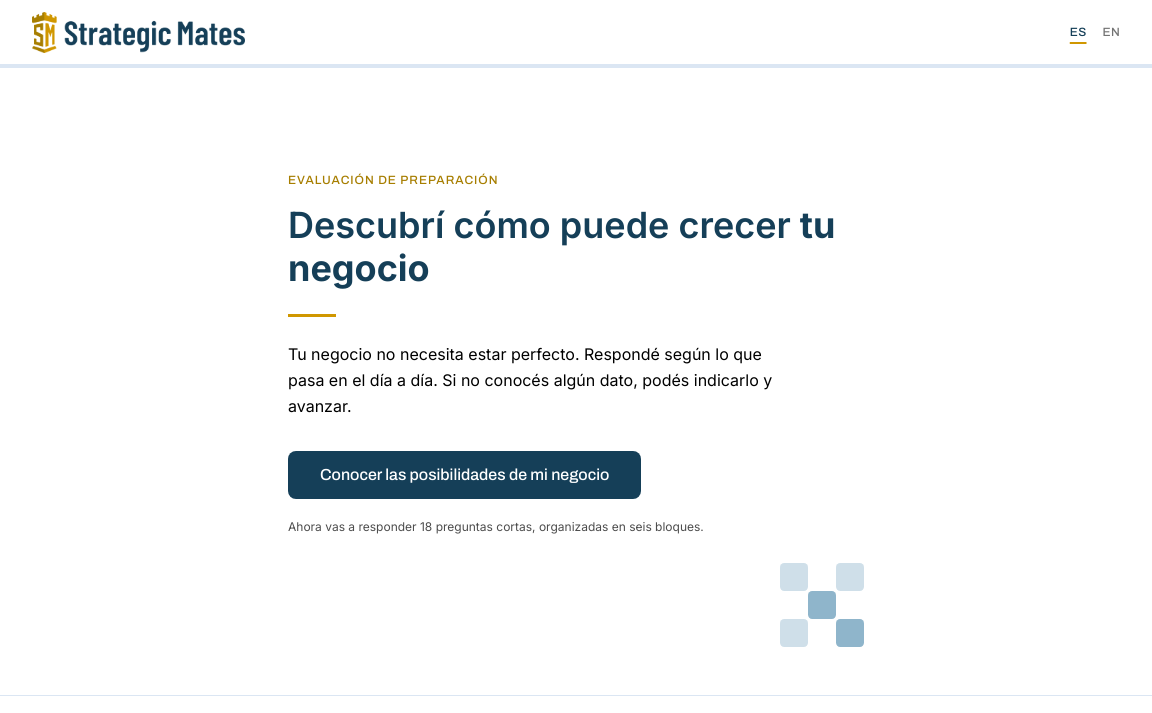
Test: ReadinessPage intro and profile › goes back from the first profile screen to the intro
Click the button "Conocer las posibilidades de mi negocio".
click(465, 475)  # box x1=288 y1=451 x2=641 y2=499
(page scrolled)
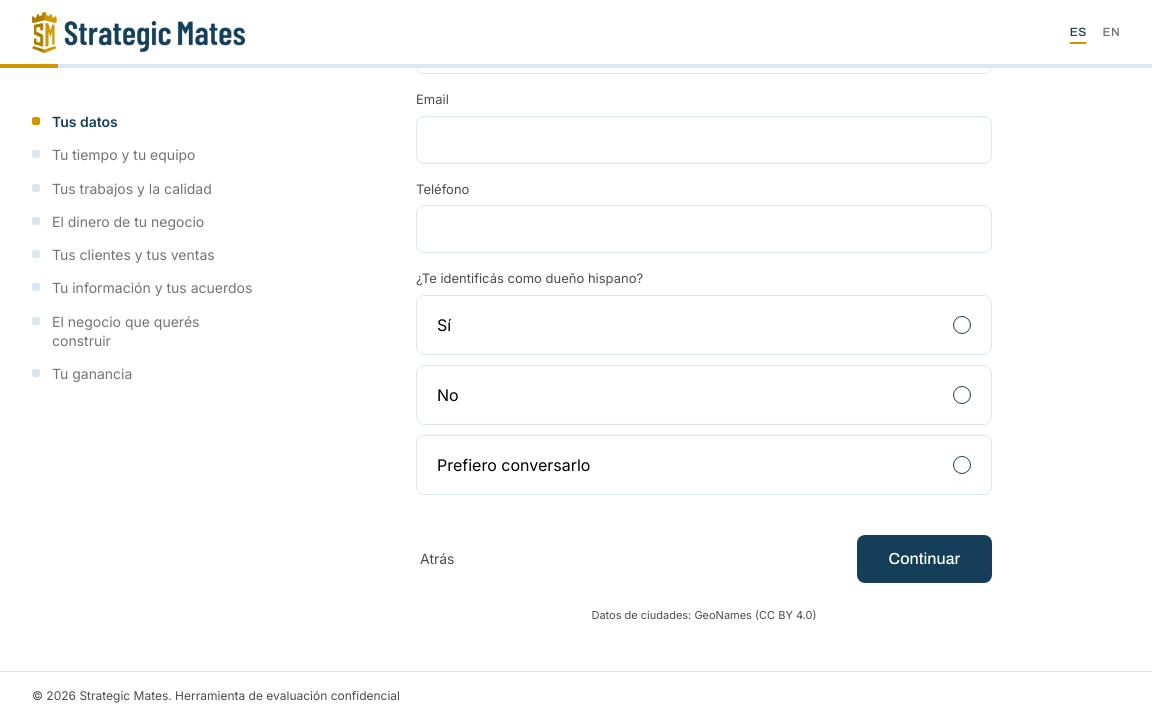
Click the button "Atrás".
click(437, 559)  # box x1=416 y1=541 x2=458 y2=577
(page scrolled)
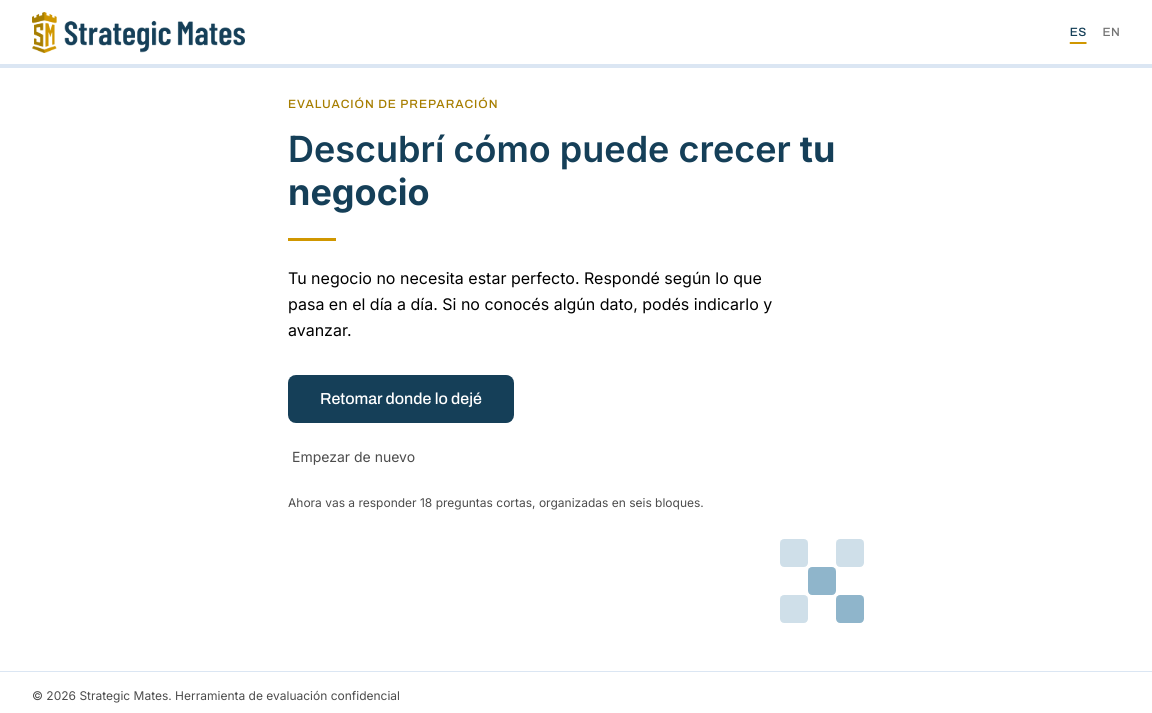
Expected: the heading "Descubrí cómo puede crecer tu negocio" is shown, x1=288 y1=128 x2=864 y2=214
